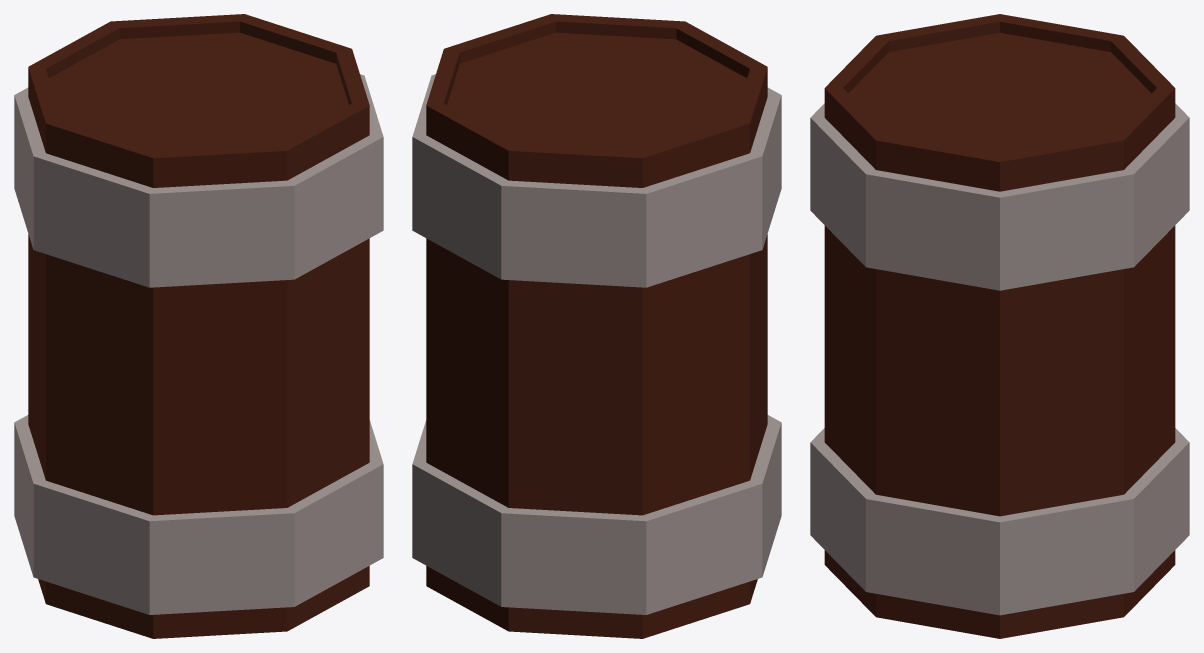
Rendered from mug.fbx.
3 renders of one model, left to right at view 1: azimuth 30°, elevation 25°; view 2: azimuth 150°, elevation 25°; view 3: azimuth 270°, elevation 25°, orthographic.
Visible parts, largest first — view 1: mug, covers, liquid; view 2: mug, covers, liquid; view 3: mug, covers, liquid.
Boxes of the visible parts, bbox=[...] form: mug: bbox=[28, 14, 369, 638]; covers: bbox=[14, 74, 383, 614]; liquid: bbox=[49, 32, 348, 150]; mug: bbox=[426, 14, 767, 638]; covers: bbox=[412, 74, 781, 614]; liquid: bbox=[447, 32, 746, 150]; mug: bbox=[824, 14, 1175, 638]; covers: bbox=[810, 103, 1189, 615]; liquid: bbox=[848, 32, 1151, 154].
Size of the model in its own units: 216 by 300 by 216.
